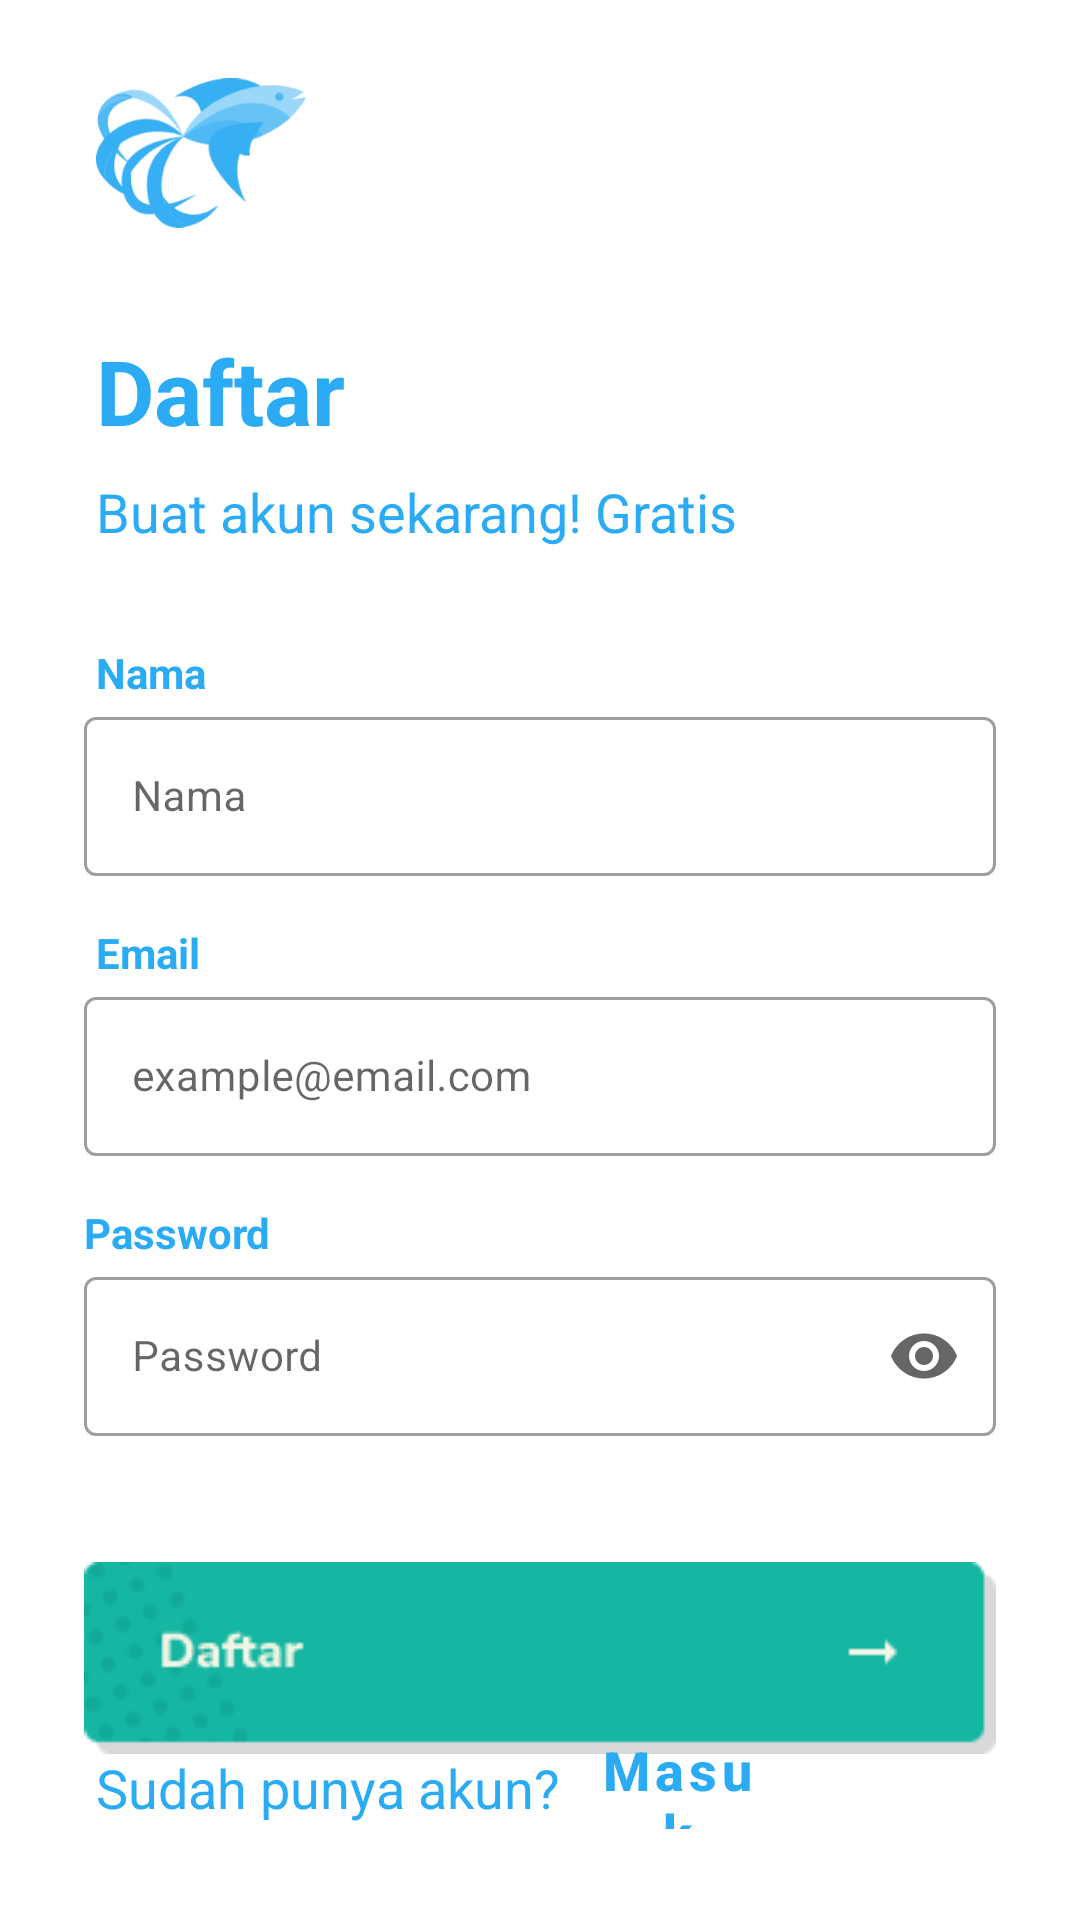

Point at icon controls on the screen. Image size 1080 x 1920, points as [x,y].
fish: [201,153]
